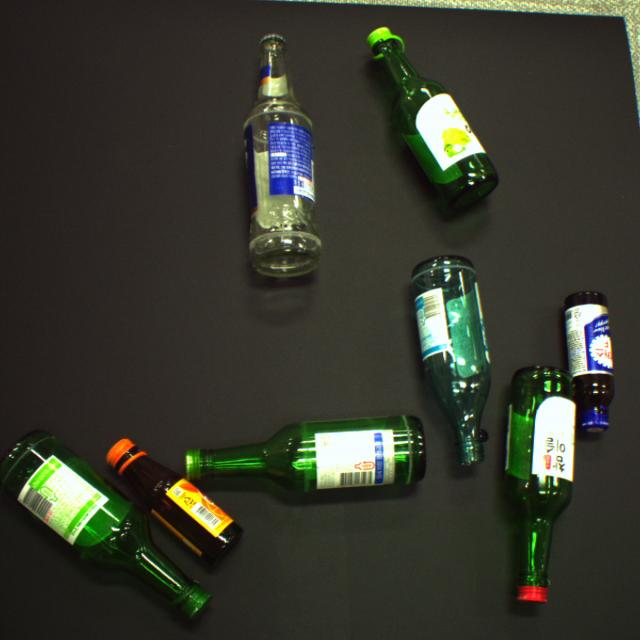beer-bottle: (243, 34, 323, 278)
soju-bottle: (0, 431, 213, 622), (366, 27, 499, 212), (184, 416, 427, 493), (503, 366, 578, 602), (411, 254, 491, 467)
